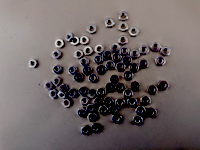nut: (112, 114, 123, 125), (159, 81, 170, 91), (148, 85, 158, 96), (141, 96, 152, 106), (147, 108, 157, 119), (136, 106, 146, 117), (133, 115, 143, 126), (139, 45, 150, 55), (139, 59, 150, 69), (88, 74, 99, 84), (79, 57, 90, 67), (130, 49, 141, 59), (110, 43, 121, 53), (123, 55, 133, 66), (91, 124, 101, 134), (81, 126, 91, 136), (77, 108, 87, 118), (88, 113, 98, 123), (99, 106, 109, 116), (116, 98, 126, 108), (128, 98, 138, 108), (131, 82, 141, 92), (124, 71, 134, 81), (156, 56, 166, 66), (161, 46, 171, 56), (151, 42, 161, 52), (119, 35, 129, 45), (129, 26, 139, 36), (119, 22, 129, 32), (119, 11, 129, 21), (105, 18, 115, 28), (87, 24, 97, 34), (95, 44, 105, 54), (80, 35, 90, 45), (83, 46, 93, 56), (94, 55, 104, 65), (96, 65, 106, 75), (105, 83, 115, 93), (110, 75, 120, 85), (116, 83, 126, 93), (124, 89, 134, 99), (53, 65, 63, 75), (52, 50, 62, 60), (65, 32, 75, 42), (104, 97, 114, 107), (97, 88, 107, 98), (79, 87, 89, 97), (87, 89, 97, 99), (68, 88, 78, 98), (120, 46, 130, 56), (116, 62, 126, 72), (112, 52, 122, 62), (130, 63, 140, 73), (28, 59, 38, 69), (55, 39, 65, 48), (68, 66, 78, 75), (74, 73, 84, 82), (83, 66, 93, 75), (74, 50, 84, 59), (71, 36, 80, 46), (62, 99, 72, 108), (103, 51, 113, 60), (106, 61, 116, 70), (81, 97, 90, 106), (87, 104, 96, 113), (49, 90, 58, 99), (52, 77, 61, 86), (59, 84, 68, 93), (58, 91, 67, 100), (45, 81, 53, 91), (110, 106, 120, 114), (94, 99, 103, 107)
